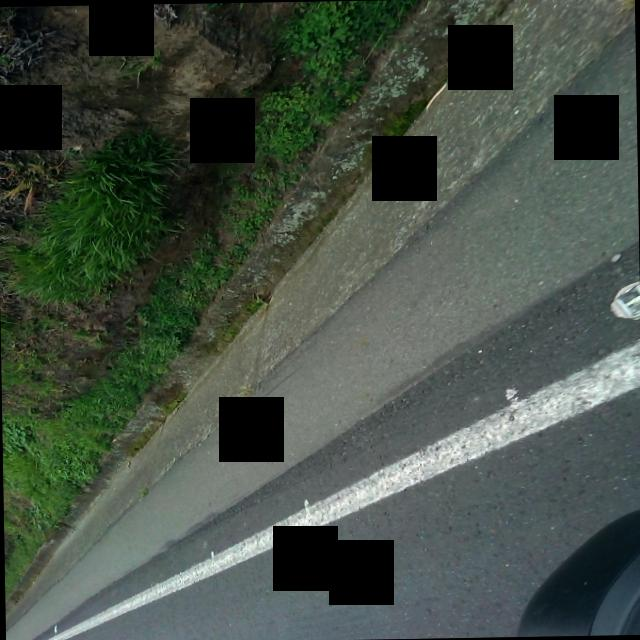DITCH: (0, 0, 640, 640), (8, 0, 640, 640), (22, 0, 640, 640)
